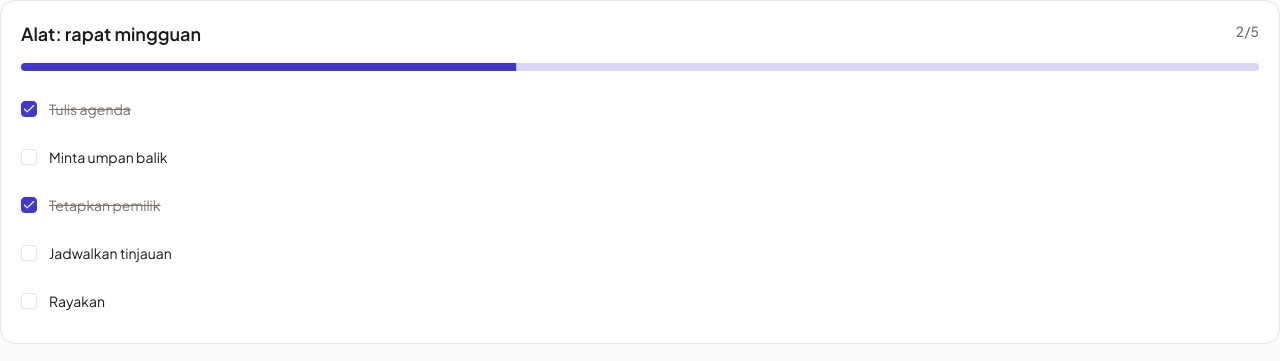
ChecklistTool › reports the toggled index and updates the count
Click the checkbox named "Minta umpan balik" next to "Minta umpan balik": {"x": 29, "y": 157} [21,149,37,165]
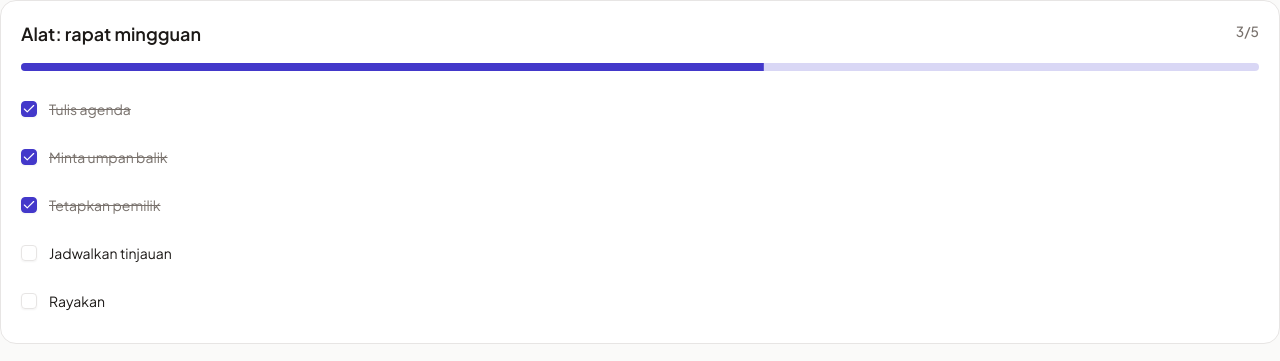
Expected: the text "3/5" is shown, [1236,21,1259,41]
